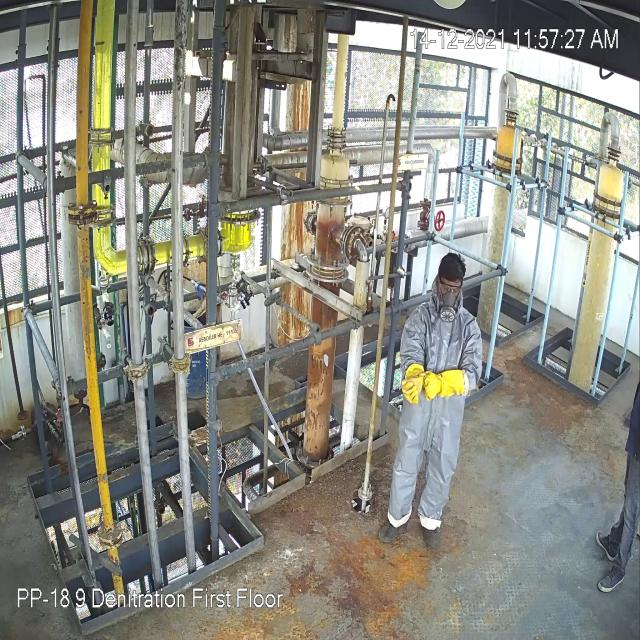glasses: (436, 276, 463, 294)
mask: (436, 292, 459, 324)
